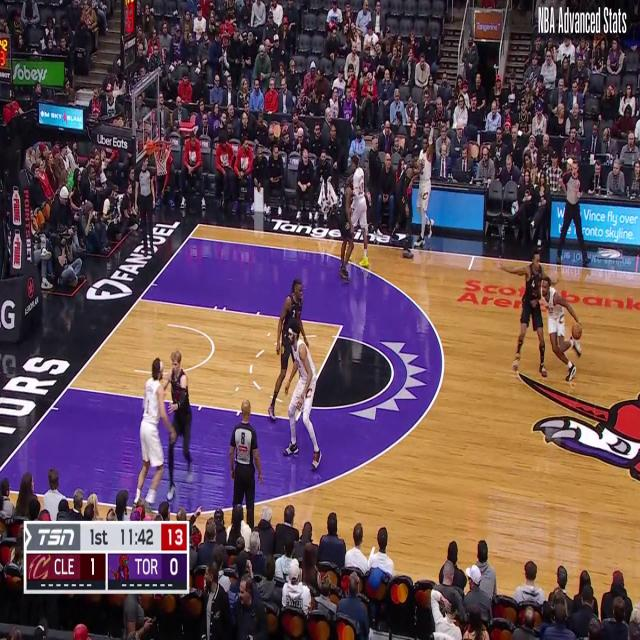ball: (572, 323, 582, 341)
judge: (223, 402, 264, 541), (557, 161, 592, 267), (135, 150, 155, 262)
player: (134, 360, 176, 512), (502, 255, 552, 379), (538, 277, 586, 387), (284, 328, 320, 468), (272, 281, 309, 412), (163, 352, 196, 495), (339, 163, 368, 277), (349, 159, 369, 271), (415, 140, 434, 248)
